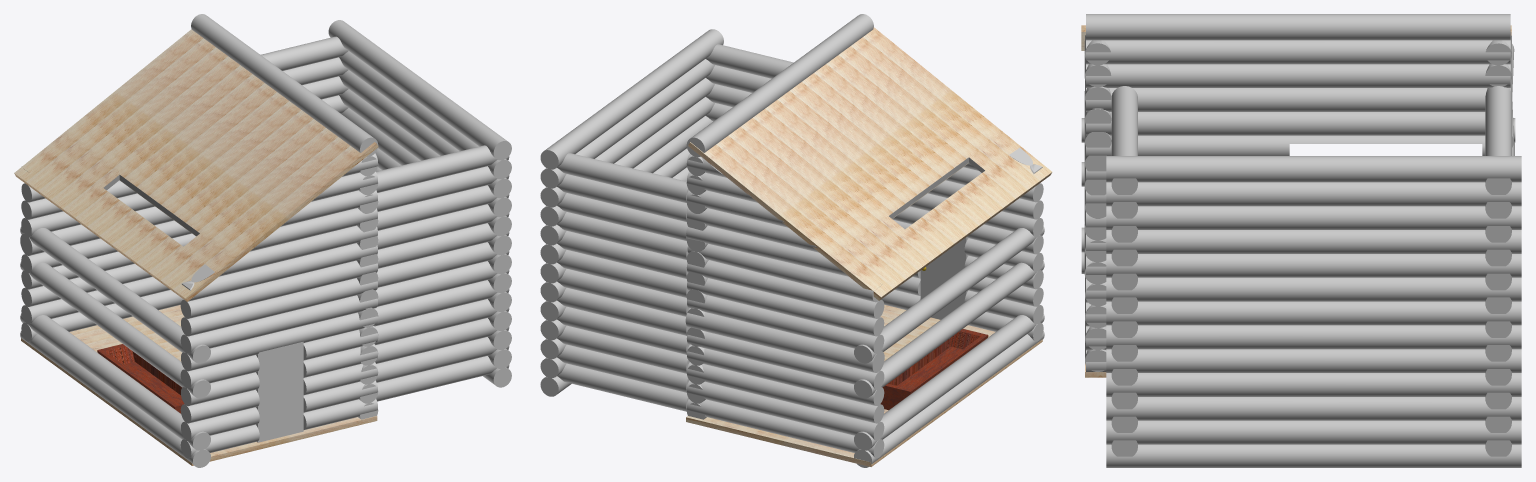
File: cabinexport.fbx
3 views of the same model, side by side, from view 1: azimuth 30°, elevation 25°; view 2: azimuth 150°, elevation 25°; view 3: azimuth 270°, elevation 25° (orthographic). The views are drawn at different scales.
Visible parts, largest first — view 1: pCylinder126, pCylinder25, door, pCylinder6, pCylinder1, pCylinder4, pCylinder41, pCylinder40, pCylinder39, pCylinder64, pCylinder53, pCylinder127 (+67 smaller); view 2: pCylinder126, pCylinder25, pCylinder1, pCylinder4, pCylinder6, pCylinder70, pCylinder67, pCylinder72, pCylinder73, pCylinder66, pCylinder71, pCylinder69 (+68 smaller); view 3: pCylinder25, pCylinder126, pCylinder24, pCylinder120, pCylinder115, pCylinder121, pCylinder23, pCylinder119, pCylinder125, pCylinder128, pCylinder116, pCylinder122 (+9 smaller).
Part boxes in pixels (x1=…): pCylinder126: x1=328, y1=20, x2=511, y2=160; pCylinder25: x1=191, y1=14, x2=378, y2=157; door: x1=256, y1=341, x2=303, y2=442; pCylinder6: x1=20, y1=226, x2=210, y2=363; pCylinder1: x1=20, y1=313, x2=210, y2=450; pCylinder4: x1=20, y1=261, x2=210, y2=398; pCylinder41: x1=180, y1=260, x2=378, y2=318; pCylinder40: x1=181, y1=278, x2=377, y2=336; pCylinder39: x1=180, y1=295, x2=377, y2=353; pCylinder64: x1=181, y1=312, x2=377, y2=371; pCylinder53: x1=182, y1=243, x2=377, y2=301; pCylinder127: x1=20, y1=330, x2=210, y2=467; pCylinder126: x1=540, y1=29, x2=723, y2=169; pCylinder25: x1=686, y1=14, x2=873, y2=157; pCylinder1: x1=854, y1=313, x2=1044, y2=450; pCylinder4: x1=854, y1=261, x2=1044, y2=398; pCylinder6: x1=854, y1=226, x2=1044, y2=363; pCylinder70: x1=685, y1=308, x2=884, y2=372; pCylinder67: x1=687, y1=362, x2=884, y2=423; pCylinder72: x1=687, y1=278, x2=884, y2=336; pCylinder73: x1=686, y1=260, x2=884, y2=318; pCylinder66: x1=687, y1=380, x2=884, y2=440; pCylinder71: x1=687, y1=295, x2=884, y2=353; pCylinder69: x1=686, y1=332, x2=884, y2=389; pCylinder25: x1=1086, y1=14, x2=1510, y2=40; pCylinder126: x1=1106, y1=156, x2=1521, y2=182; pCylinder24: x1=1086, y1=40, x2=1510, y2=64; pCylinder120: x1=1106, y1=301, x2=1521, y2=325; pCylinder115: x1=1106, y1=420, x2=1521, y2=444; pCylinder121: x1=1106, y1=277, x2=1521, y2=301; pCylinder23: x1=1086, y1=64, x2=1510, y2=87; pCylinder119: x1=1106, y1=325, x2=1521, y2=349; pCylinder125: x1=1106, y1=182, x2=1521, y2=206; pCylinder128: x1=1106, y1=444, x2=1521, y2=467; pCylinder116: x1=1106, y1=397, x2=1521, y2=420; pCylinder122: x1=1106, y1=254, x2=1521, y2=277.
Size of the model in its own units: 205 by 169 by 185.
